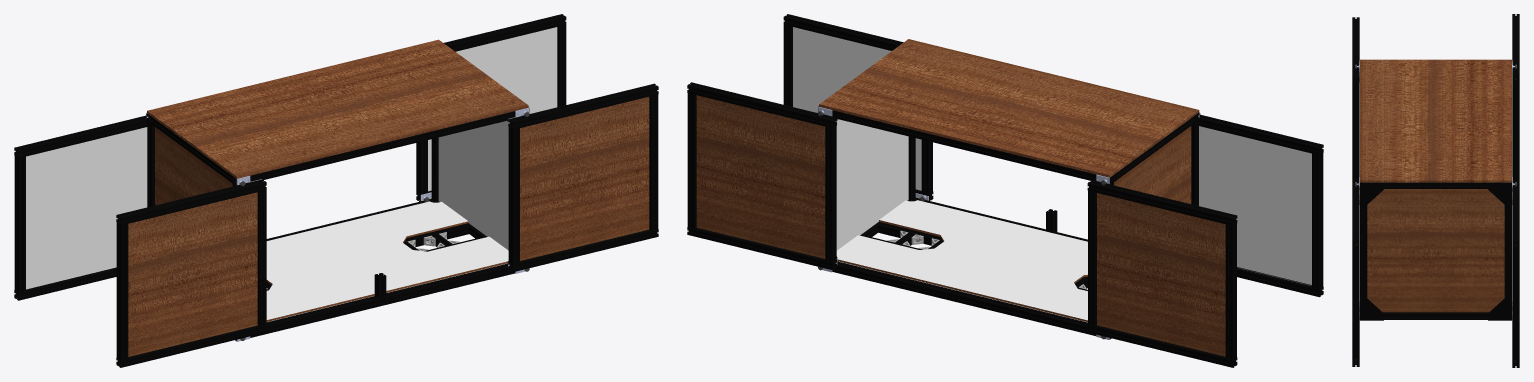
The model's file is enclosure.fbx.
The picture shows the model from 3 angles, left to right: view 1: azimuth 30°, elevation 25°; view 2: azimuth 150°, elevation 25°; view 3: azimuth 270°, elevation 25°; orthographic projection. The views are drawn at different scales.
Parts seen in each view (by area): view 1: polished mahogany 2d-4, polished mahogany 2d-3.3, polished mahogany 2d-3.4, color, color-4.2, satin finish aluminum, color-3, satin finish aluminum-2.3, satin finish aluminum-2.4, color-4, satin finish aluminum-2.2, polished mahogany 2d-2.2 (+2 smaller); view 2: polished mahogany 2d-4, polished mahogany 2d-3, polished mahogany 2d-3.2, color, color-4.3, satin finish aluminum, color-3, satin finish aluminum-2, satin finish aluminum-2.2, color-4.4, satin finish aluminum-2.3, polished mahogany 2d-2.2 (+2 smaller); view 3: polished mahogany 2d-4, polished mahogany 2d-2, satin finish aluminum, satin finish aluminum-2, satin finish aluminum-2.4, satin finish aluminum-2.2, satin finish aluminum-2.3, satin finish aluminum-3.2, satin finish aluminum-3.3, satin finish aluminum-3, satin finish aluminum-3.4.
Part boxes in pixels (left/top/right/bottom): polished mahogany 2d-4: left=147, top=39, right=528, bottom=178; polished mahogany 2d-3.3: left=128, top=192, right=257, bottom=356; polished mahogany 2d-3.4: left=520, top=97, right=649, bottom=260; color: left=266, top=201, right=508, bottom=319; color-4.2: left=26, top=127, right=147, bottom=289; satin finish aluminum: left=147, top=111, right=523, bottom=341; color-3: left=438, top=121, right=508, bottom=250; satin finish aluminum-2.3: left=116, top=179, right=266, bottom=367; satin finish aluminum-2.4: left=508, top=83, right=658, bottom=272; color-4: left=428, top=27, right=557, bottom=191; satin finish aluminum-2.2: left=14, top=115, right=147, bottom=300; polished mahogany 2d-2.2: left=155, top=127, right=232, bottom=205; polished mahogany 2d-4: left=819, top=39, right=1199, bottom=177; polished mahogany 2d-3: left=696, top=95, right=825, bottom=258; polished mahogany 2d-3.2: left=1097, top=193, right=1225, bottom=356; color: left=836, top=200, right=1087, bottom=320; color-4.3: left=1199, top=126, right=1311, bottom=285; satin finish aluminum: left=823, top=110, right=1199, bottom=339; color-3: left=836, top=119, right=908, bottom=250; satin finish aluminum-2: left=687, top=82, right=836, bottom=270; satin finish aluminum-2.2: left=1087, top=180, right=1237, bottom=367; color-4.4: left=793, top=27, right=921, bottom=190; satin finish aluminum-2.3: left=1199, top=114, right=1323, bottom=297; polished mahogany 2d-2.2: left=1114, top=126, right=1191, bottom=203; polished mahogany 2d-4: left=1360, top=59, right=1511, bottom=182; polished mahogany 2d-2: left=1367, top=189, right=1504, bottom=312; satin finish aluminum: left=1360, top=182, right=1511, bottom=319; satin finish aluminum-2: left=1512, top=180, right=1519, bottom=367; satin finish aluminum-2.4: left=1352, top=179, right=1359, bottom=366; satin finish aluminum-2.2: left=1512, top=14, right=1519, bottom=181; satin finish aluminum-2.3: left=1352, top=17, right=1359, bottom=181; satin finish aluminum-3.2: left=1360, top=182, right=1383, bottom=204; satin finish aluminum-3.3: left=1488, top=182, right=1511, bottom=204; satin finish aluminum-3: left=1360, top=298, right=1383, bottom=320; satin finish aluminum-3.4: left=1488, top=298, right=1511, bottom=320.
Size of the model in its own units: 289 by 83.27 by 90.32.
8 materials, 3 textured.
